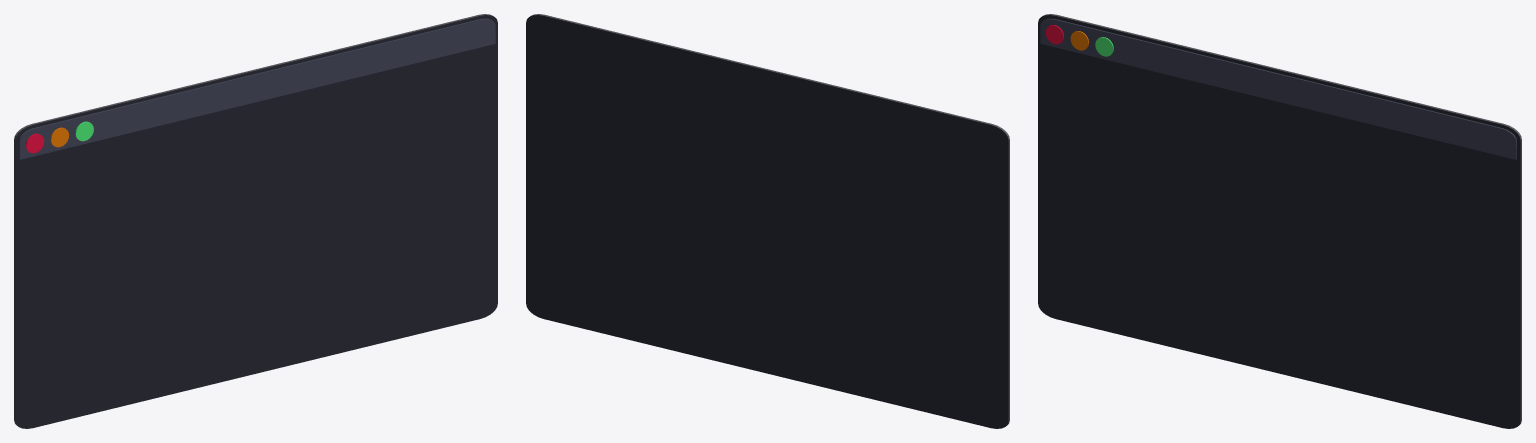
Rendered from terminal.glb.
3 views of the same model, side by side, from view 1: azimuth 30°, elevation 25°; view 2: azimuth 150°, elevation 25°; view 3: azimuth 330°, elevation 25° (orthographic).
Visible parts, largest first — view 1: Plane; view 2: Plane; view 3: Plane.
Part boxes in pixels (box(x1,y1,x2,y2)): Plane: box(14, 14, 497, 428); Plane: box(526, 14, 1009, 428); Plane: box(1038, 14, 1521, 428).
Bounding box in the file's own units: 2.37 × 1.42 × 0.0258.
